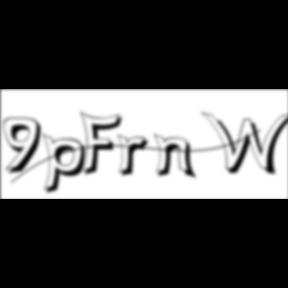9: (3, 117, 48, 177)
F: (80, 110, 128, 178)
n: (154, 132, 200, 181)
p: (43, 132, 93, 198)
r: (117, 134, 155, 180)
